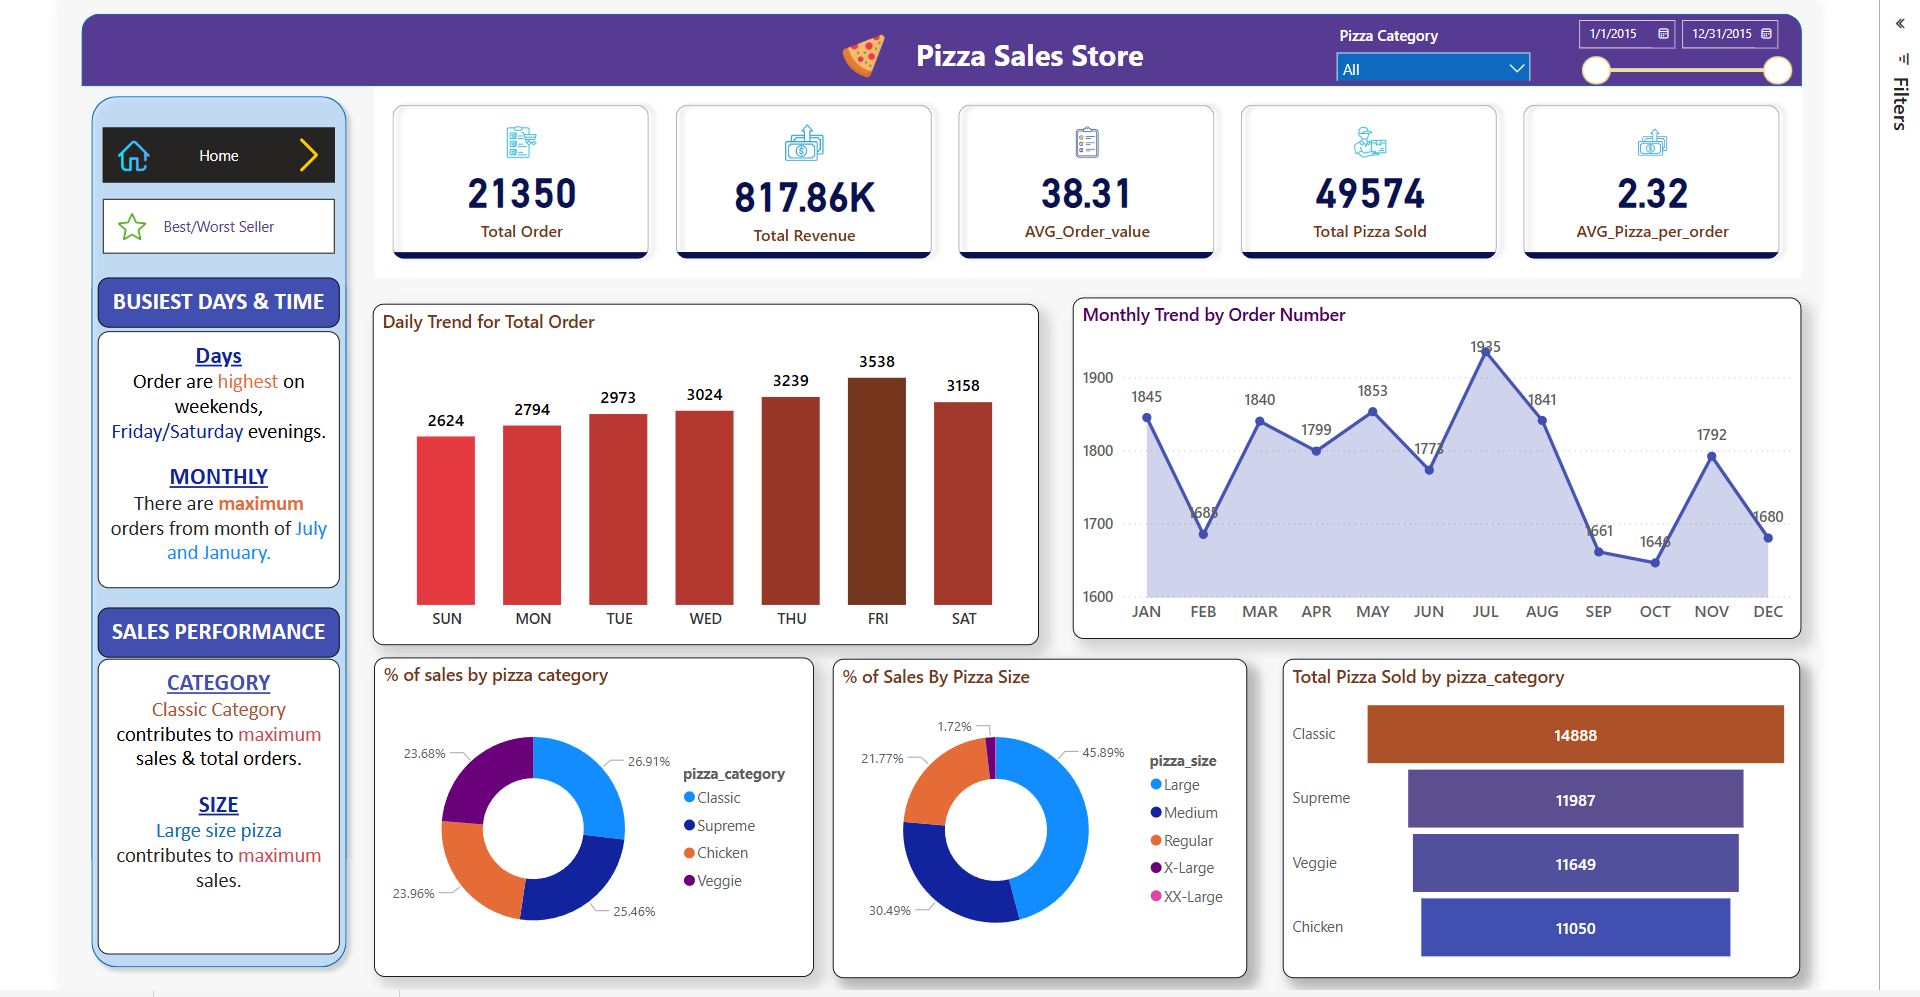

The dashboard page shown, as its layout file describes it:
{"tool":"powerbi","page":{"name":"Home","canvas":[1600,900],"ordinal":0},"visuals":[{"type":"cardVisual","fields":{"Data":["pizza_sales.Total Order","pizza_sales.Total Revenue","pizza_sales.AVG_Order_value","pizza_sales.Total Pizza Sold","pizza_sales.AVG_Pizza_per_order"]},"box":[286,78,1298,174],"z":0},{"type":"shape","box":[20,12,1564,66],"z":1000},{"type":"textbox","box":[773.3,26.7,230,46.7],"z":2000},{"type":"columnChart","title":"Daily Trend for Total Order","fields":{"Category":["pizza_sales.Order_Day"],"Y":["pizza_sales.Total Order"]},"box":[285.7,275.7,605.7,310],"z":3000},{"type":"areaChart","title":"Monthly Trend by Order Number","fields":{"Category":["pizza_sales.Month_Name"],"Y":["pizza_sales.Total Order"]},"box":[922,270,662,310],"z":4000},{"type":"donutChart","title":"% of sales by pizza category","fields":{"Category":["pizza_sales.pizza_category"],"Y":["pizza_sales.Total Revenue"]},"box":[286,598,400,290],"z":5000},{"type":"donutChart","title":"% of Sales By Pizza Size","fields":{"Y":["pizza_sales.Total Revenue"],"Category":["pizza_sales.pizza_size"]},"box":[702.9,598.6,377.1,290],"z":6000},{"type":"funnel","fields":{"Y":["pizza_sales.Total Pizza Sold"],"Category":["pizza_sales.pizza_category"]},"box":[1112.9,598.6,470,290],"z":7000},{"type":"shape","box":[20,78,250,810],"z":8000},{"type":"textbox","box":[35.6,252.2,220,45.6],"z":9000},{"type":"textbox","box":[35.6,301.1,220,233.3],"z":10000},{"type":"textbox","box":[35.6,598.9,220,268.9],"z":11000},{"type":"textbox","box":[35.6,552.2,220,45.6],"z":12000},{"type":"slicer","fields":{"Values":["pizza_sales.pizza_category"]},"box":[1151.1,17.8,196.7,55.6],"z":13000},{"type":"slicer","fields":{"Values":["pizza_sales.order_date"]},"box":[1368.9,7.8,214.4,81.1],"z":14000},{"type":"pageNavigator","box":[40,115.6,211.1,50],"z":15000},{"type":"pageNavigator","box":[40,181.1,211.1,50],"z":16000},{"type":"image","box":[703.3,25.7,56.6,49.7],"z":17000},{"type":"image","box":[204.1,120.1,46.3,41.2],"z":18000},{"type":"image","box":[48.9,118.9,38.9,44.4],"z":18001},{"type":"image","box":[48.9,185.6,35.6,41.1],"z":18002}]}

Visuals, with their boxes on the page's 1600x900 design canvas (x1, y1, x2, y2). These are canvas units, not pixel positions in the 1920x997 screenshot, which may show the page scaled, cropped or inside an application window:
cardVisual - pizza_sales.Total Order x pizza_sales.Total Revenue: x1=286 y1=78 x2=1584 y2=252
shape: x1=20 y1=12 x2=1584 y2=78
textbox: x1=773 y1=27 x2=1003 y2=73
"Daily Trend for Total Order" columnChart: x1=286 y1=276 x2=891 y2=586
"Monthly Trend by Order Number" areaChart: x1=922 y1=270 x2=1584 y2=580
"% of sales by pizza category" donutChart: x1=286 y1=598 x2=686 y2=888
"% of Sales By Pizza Size" donutChart: x1=703 y1=599 x2=1080 y2=889
funnel - pizza_sales.Total Pizza Sold x pizza_sales.pizza_category: x1=1113 y1=599 x2=1583 y2=889
shape: x1=20 y1=78 x2=270 y2=888
textbox: x1=36 y1=252 x2=256 y2=298
textbox: x1=36 y1=301 x2=256 y2=534
textbox: x1=36 y1=599 x2=256 y2=868
textbox: x1=36 y1=552 x2=256 y2=598
slicer - pizza_sales.pizza_category: x1=1151 y1=18 x2=1348 y2=73
slicer - pizza_sales.order_date: x1=1369 y1=8 x2=1583 y2=89
pageNavigator: x1=40 y1=116 x2=251 y2=166
pageNavigator: x1=40 y1=181 x2=251 y2=231
image: x1=703 y1=26 x2=760 y2=75
image: x1=204 y1=120 x2=250 y2=161
image: x1=49 y1=119 x2=88 y2=163
image: x1=49 y1=186 x2=84 y2=227
